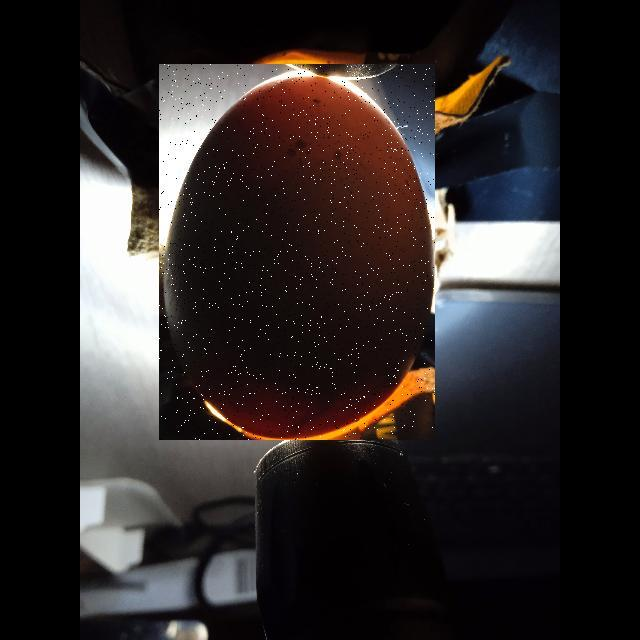Fertile: (159, 64, 435, 440)
